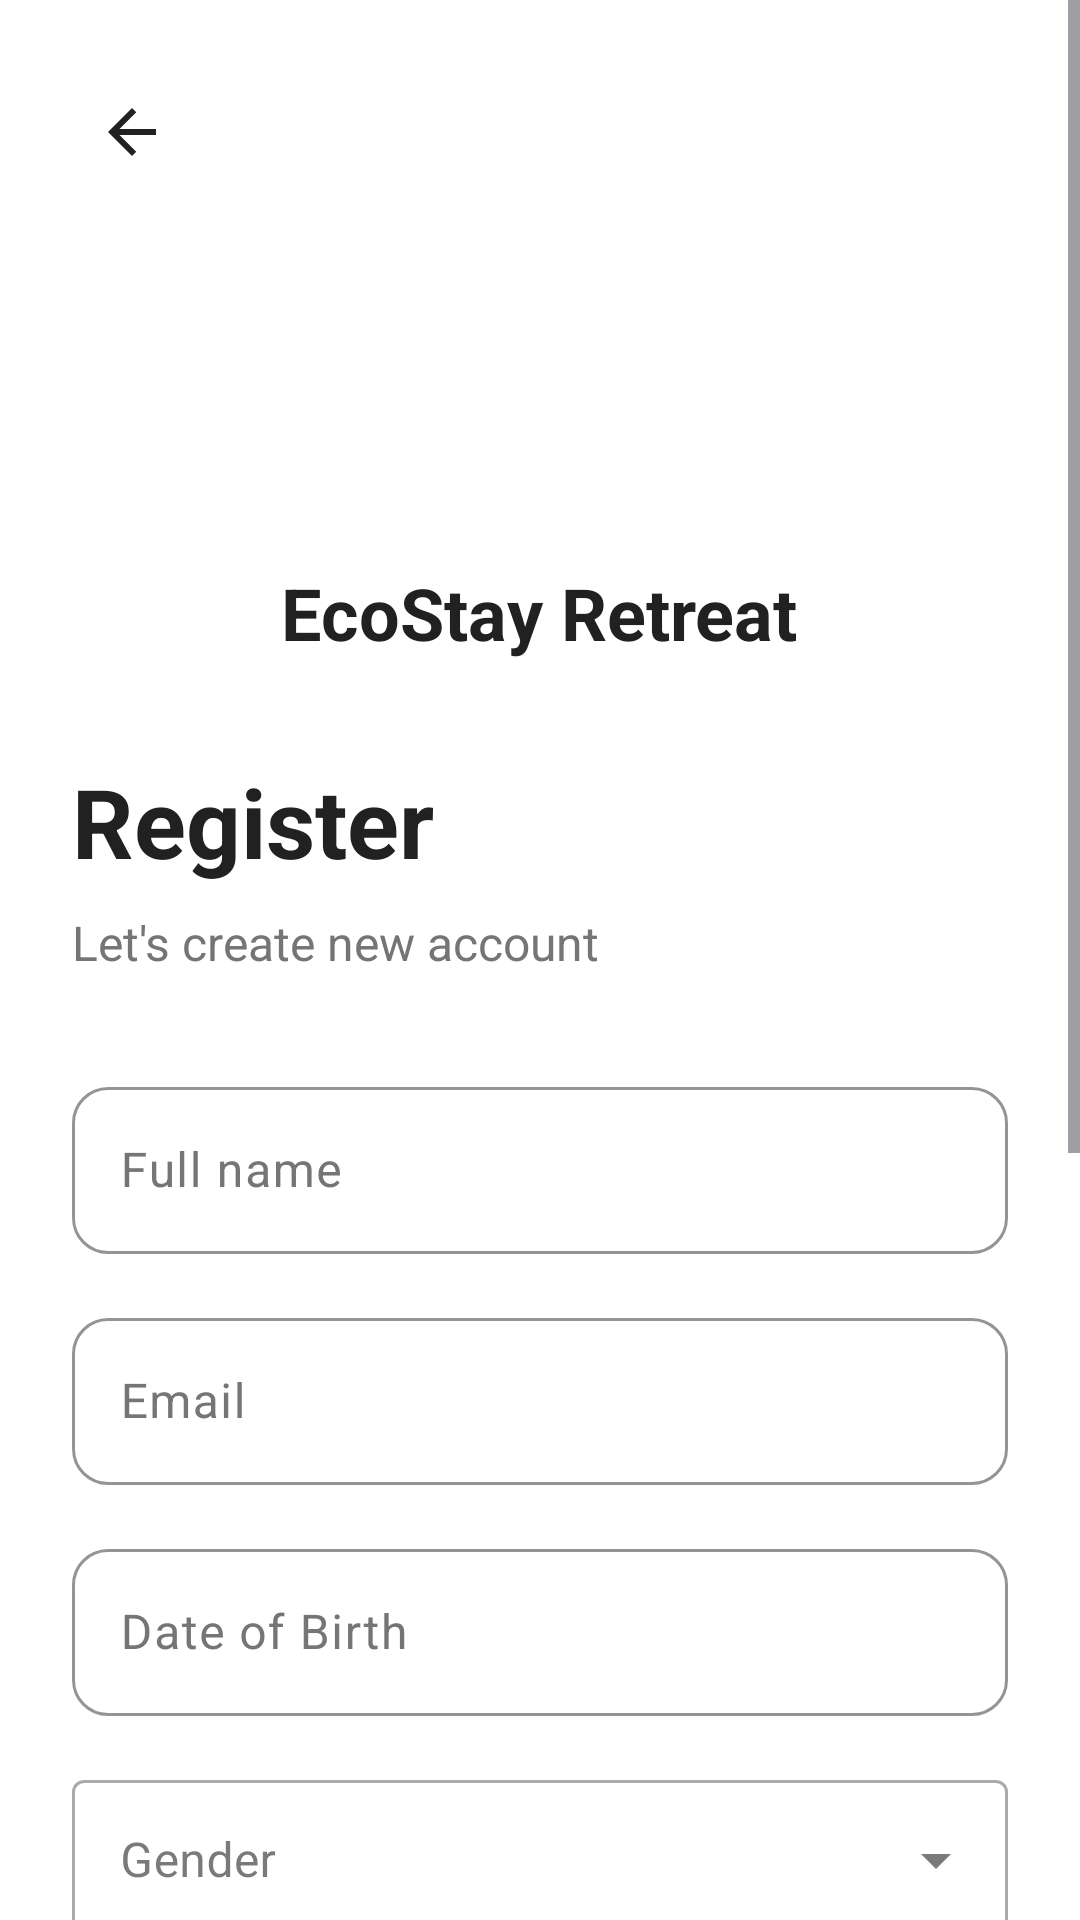

Screen size 1080px×1920px. Icon name, then its center in pixels as (x=x, y=y):
Back: (x=132, y=132)
